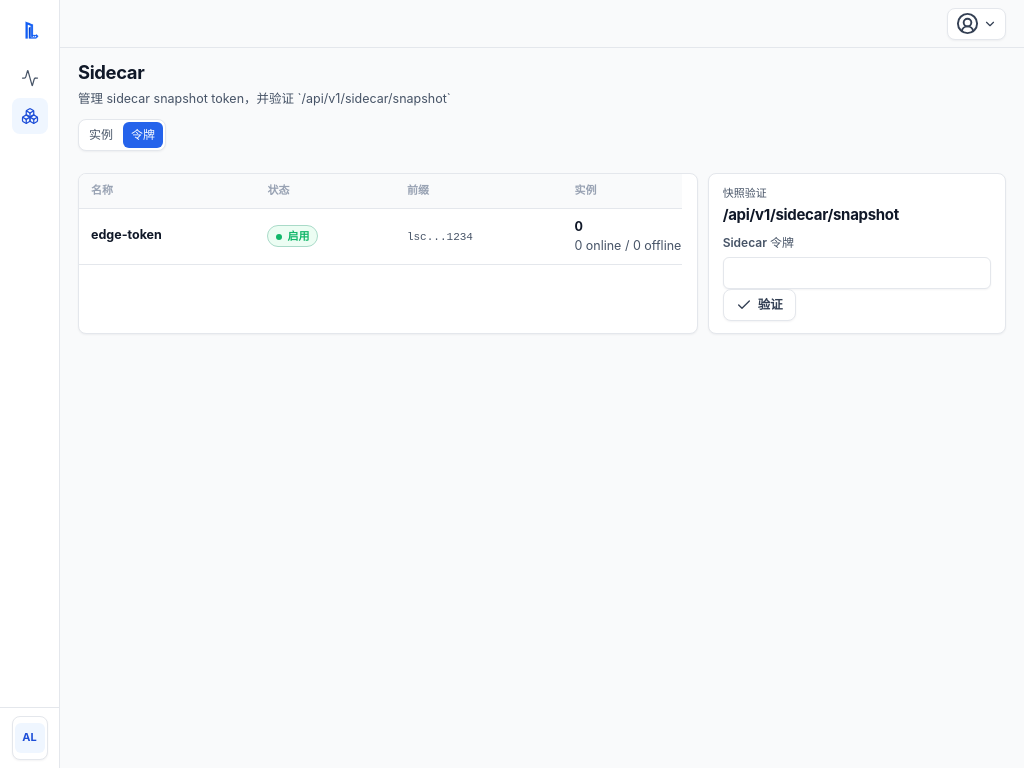
Sidecar page › refreshes runtime totals when entering the instance view
What coordinates should you click on to do the following:
click the tab "实例"
I would click on:
 (101, 135)
Its box is top-left (81, 122), bottom-right (121, 148).
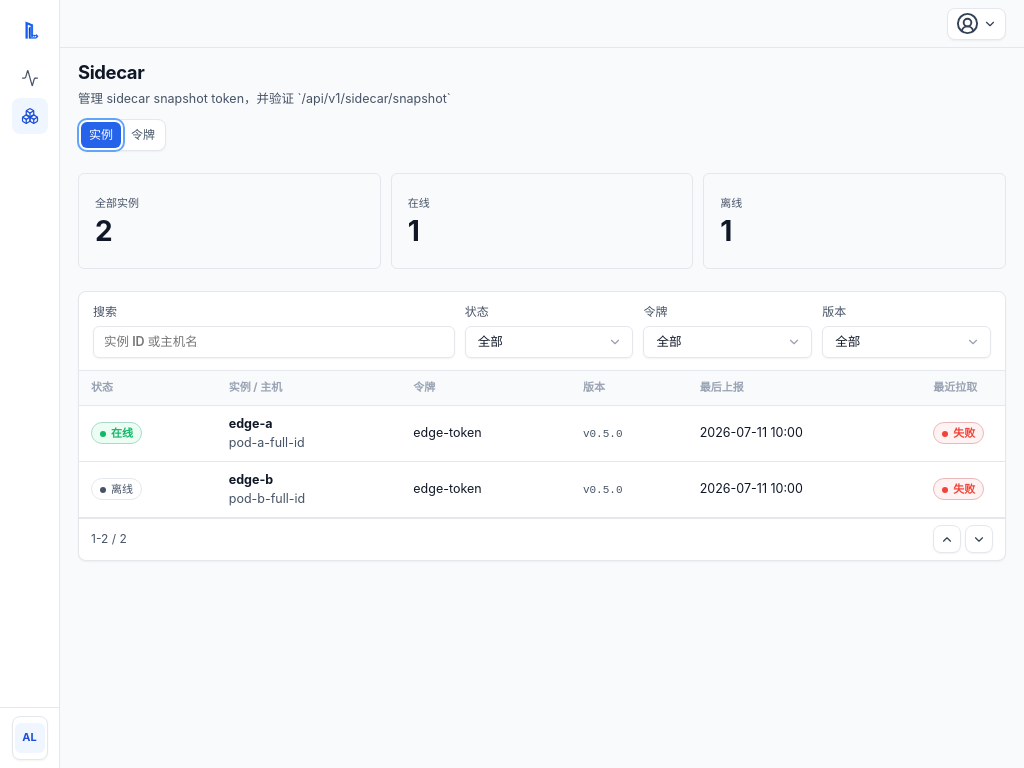
Check: the text "edge-a" is shown, box top-left (229, 416), bottom-right (273, 430)
Check: the element named "实例运行汇总" reads "全部实例 2 在线 1 离线 1", box top-left (78, 173), bottom-right (1006, 269)
